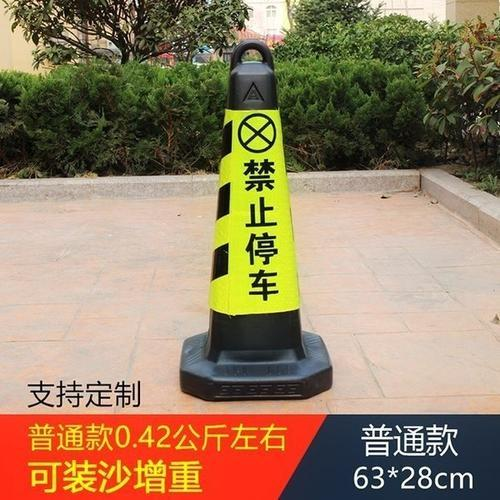cone_barrel: (182, 40, 328, 396)
